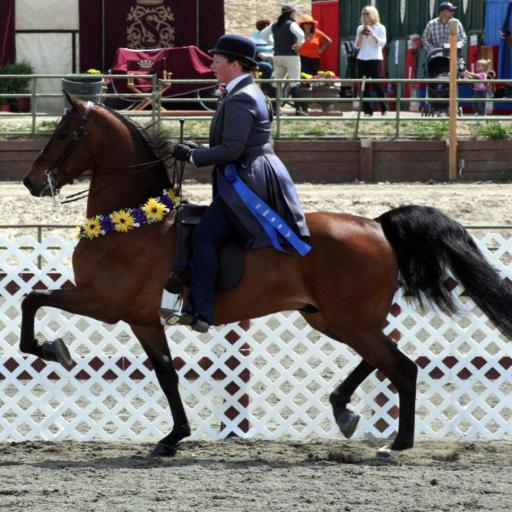horse: (17, 88, 511, 459)
